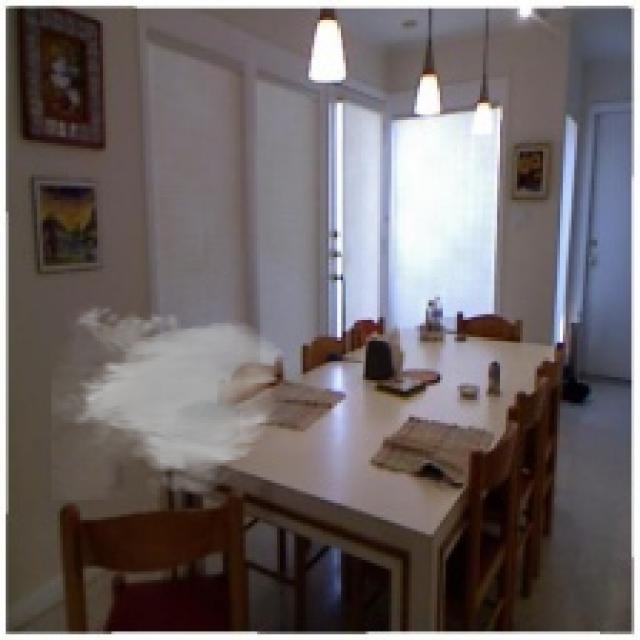smoke: (51, 300, 292, 500)
